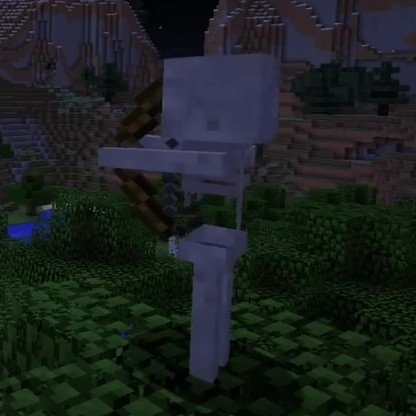skeleton: (136, 53, 276, 370)
